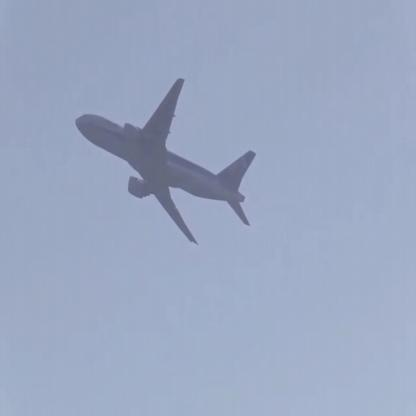CIV_Plane: (72, 73, 262, 245)
